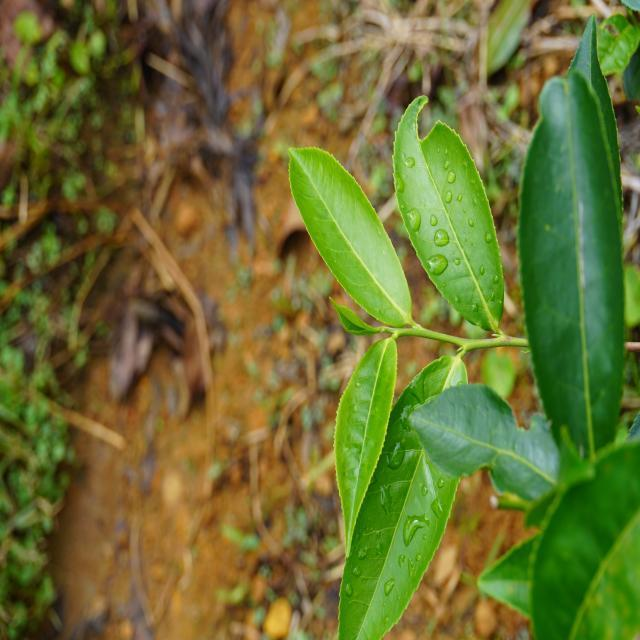Stem: (409, 328, 427, 334)
